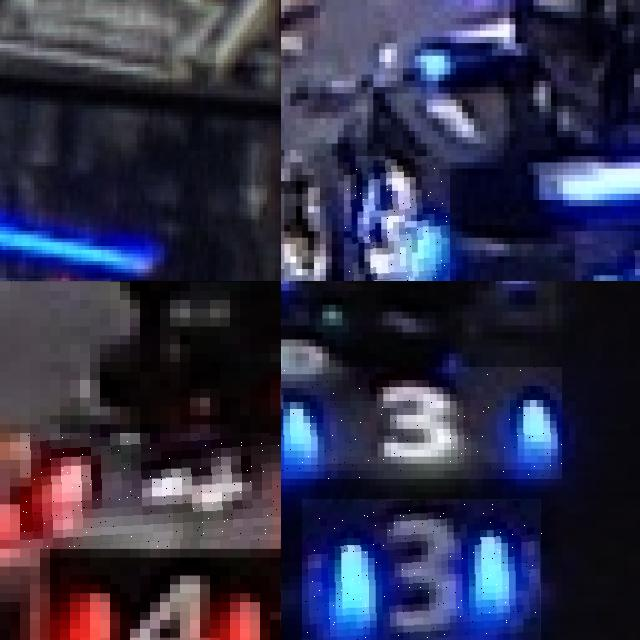B3: (302, 499, 542, 640), (281, 367, 562, 478), (343, 156, 450, 281)
R4: (20, 433, 281, 548), (60, 575, 280, 640)
